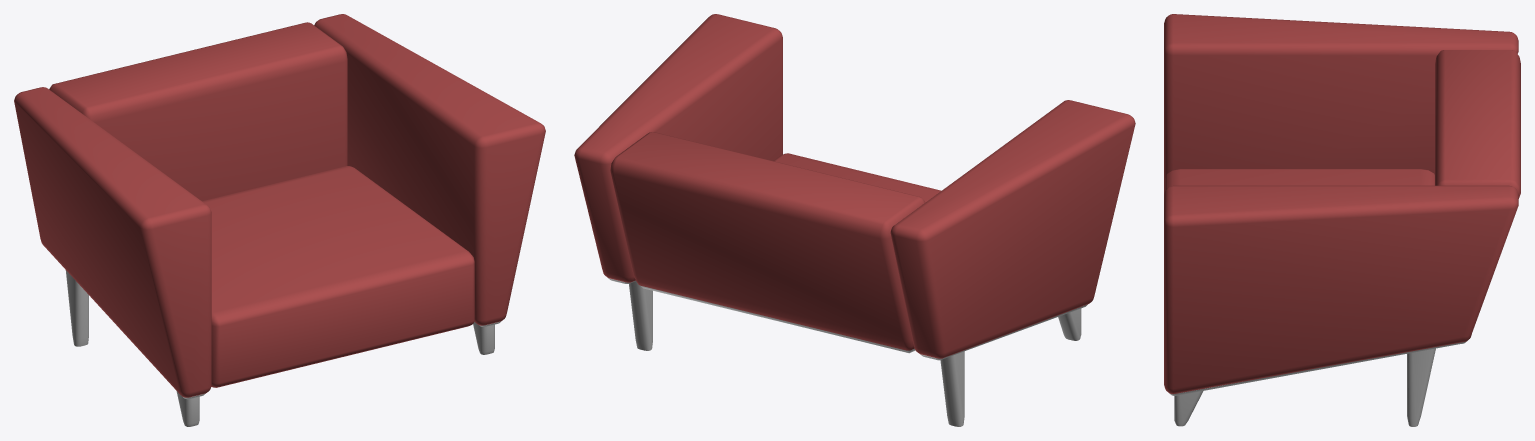
The model's file is sillon.fbx.
3 renders of one model, left to right at view 1: azimuth 30°, elevation 25°; view 2: azimuth 150°, elevation 25°; view 3: azimuth 270°, elevation 25°, orthographic. The views are drawn at different scales.
Visible parts, largest first — view 1: sillon; view 2: sillon; view 3: sillon.
Part boxes in pixels (x1,y1,x2,y2): sillon: [14, 14, 545, 426]; sillon: [574, 14, 1135, 426]; sillon: [1164, 14, 1520, 426].
Size of the model in its own units: 3.18 by 1.66 by 2.3.
